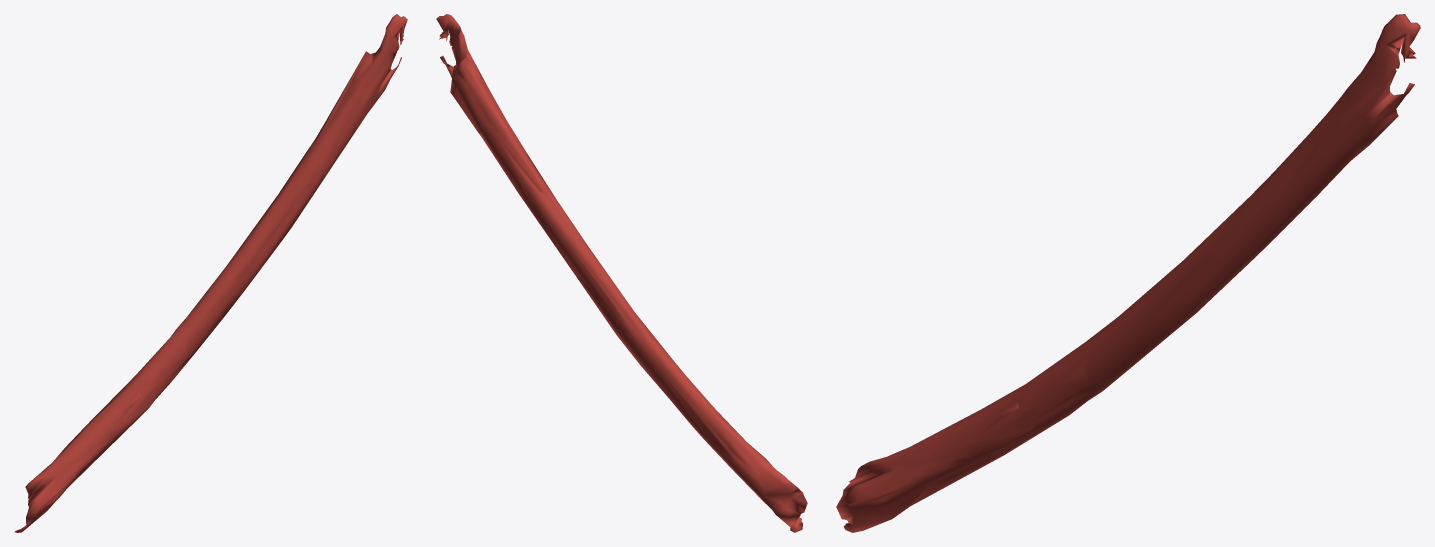
The model's file is musculos-inguinal-ligament-l.glb.
3 views of the same model, side by side, from view 1: azimuth 30°, elevation 25°; view 2: azimuth 150°, elevation 25°; view 3: azimuth 330°, elevation 25° (orthographic). The views are drawn at different scales.
Visible parts, largest first — view 1: Inguinal ligament.l; view 2: Inguinal ligament.l; view 3: Inguinal ligament.l.
Part boxes in pixels (x1,y1,x2,y2): Inguinal ligament.l: (14,14,407,532); Inguinal ligament.l: (436,14,807,532); Inguinal ligament.l: (836,14,1420,532).
Size of the model in its own units: 0.1045 by 0.1132 by 0.00928.
